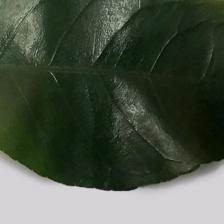healthy: (6, 2, 224, 129)
